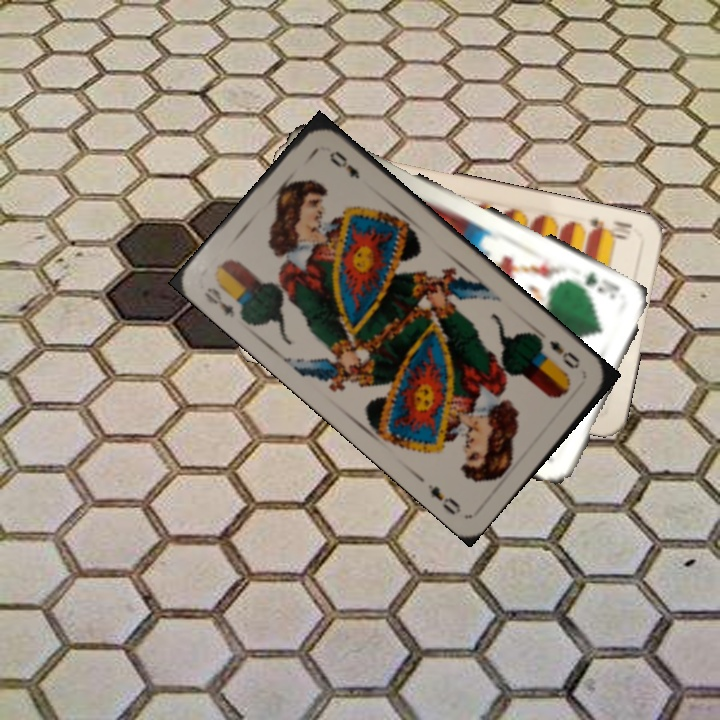E10: (583, 215, 635, 243)
EO: (199, 283, 238, 321), (545, 336, 583, 372)
GK: (580, 268, 623, 302)
